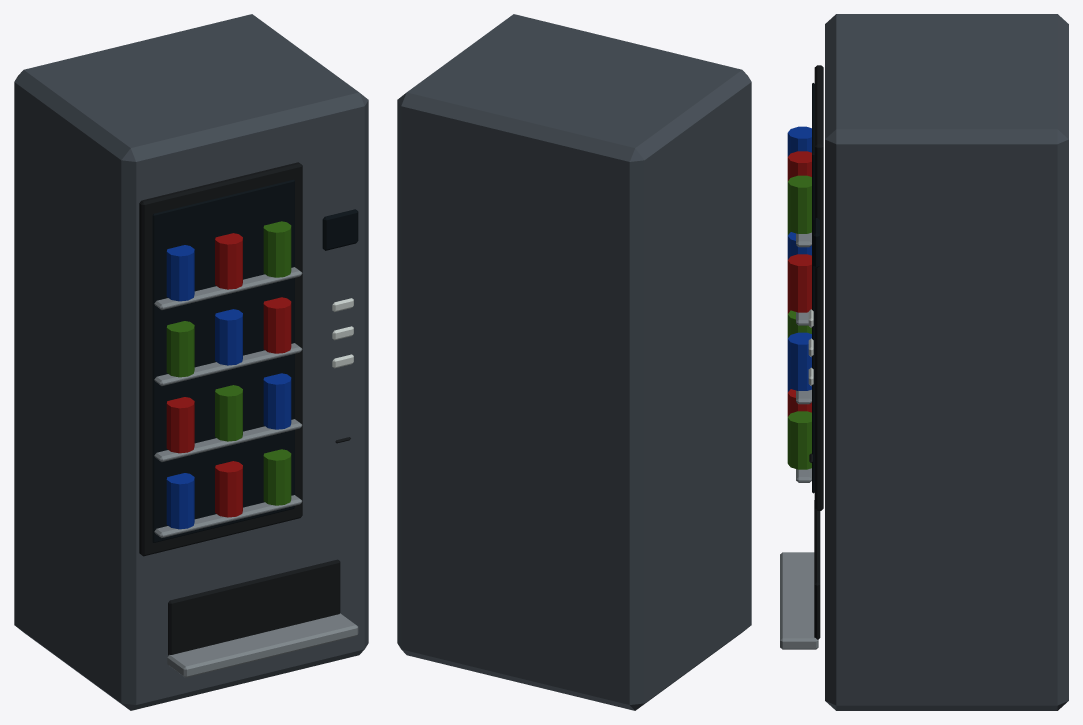
Rendered from DrinkVending.fbx.
The picture shows the model from 3 angles, left to right: view 1: azimuth 30°, elevation 25°; view 2: azimuth 150°, elevation 25°; view 3: azimuth 270°, elevation 25°; orthographic projection. The views are drawn at different scales.
Parts seen in each view (by area): view 1: DrinkVending; view 2: DrinkVending; view 3: DrinkVending.
Part boxes in pixels (left/top/right/bottom): DrinkVending: left=14, top=14, right=368, bottom=710; DrinkVending: left=397, top=14, right=751, bottom=710; DrinkVending: left=780, top=14, right=1068, bottom=710.
Bounding box in the file's own units: 92 × 200 × 90.
Materials: 1 (1 with a texture image).
